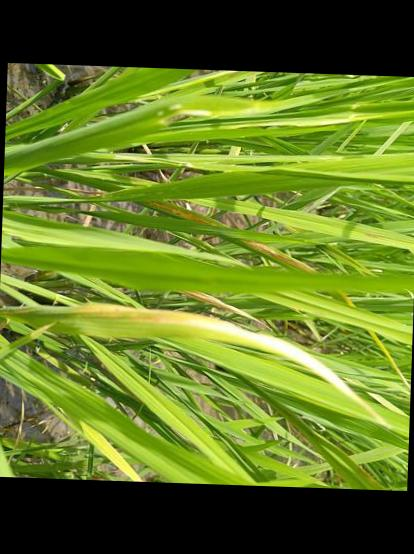Leaf Blight: (0, 306, 394, 429), (77, 421, 143, 482), (181, 292, 272, 331), (365, 331, 410, 398), (233, 239, 312, 272), (144, 202, 225, 227), (336, 291, 353, 308)
